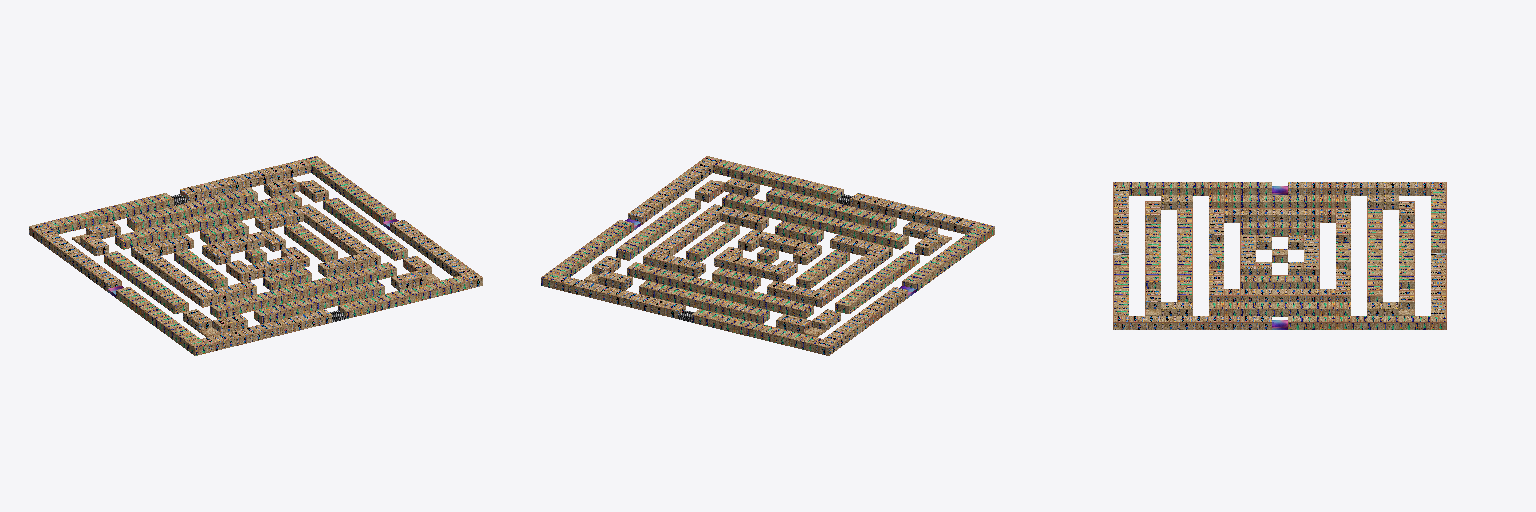
The picture shows the model from 3 angles: view 1: azimuth 30°, elevation 25°; view 2: azimuth 150°, elevation 25°; view 3: azimuth 270°, elevation 25°; orthographic projection.
Visible parts, largest first — view 1: Box118, Box132, Box154, Box135, Box134, Box160, Box158, Box159, Box156, Box157, Box143, Box155 (+14 smaller); view 2: Box118, Box132, Box160, Box134, Box135, Box154, Box159, Box158, Box157, Box156, Box155, Box143 (+14 smaller); view 3: Box143, Box155, Box131, Box156, Box157, Box130, Box115, Box118, Box132, Box114, Box106, Box107 (+6 smaller).
Boxes of the visible parts, x1,y1,x2,y2 form: Box118: [115, 193, 301, 249]; Box132: [210, 262, 396, 318]; Box154: [338, 275, 469, 318]; Box135: [254, 281, 384, 323]; Box134: [127, 188, 257, 230]; Box160: [180, 159, 310, 202]; Box158: [202, 309, 331, 352]; Box159: [43, 193, 173, 234]; Box156: [116, 287, 208, 355]; Box157: [29, 223, 121, 291]; Box143: [390, 220, 482, 288]; Box155: [304, 156, 395, 224]; Box118: [627, 262, 813, 318]; Box132: [722, 193, 908, 249]; Box160: [554, 275, 685, 318]; Box134: [639, 281, 769, 323]; Box135: [766, 188, 896, 230]; Box154: [713, 159, 843, 202]; Box159: [692, 309, 821, 352]; Box158: [850, 193, 980, 234]; Box157: [815, 287, 907, 355]; Box156: [902, 223, 994, 291]; Box155: [541, 220, 633, 288]; Box143: [628, 156, 719, 224]; Box143: [1113, 316, 1271, 329]; Box155: [1288, 316, 1446, 329]; Box131: [1209, 302, 1350, 316]; Box156: [1113, 182, 1271, 195]; Box157: [1288, 182, 1446, 195]; Box130: [1209, 195, 1350, 207]; Box115: [1224, 208, 1335, 222]; Box118: [1367, 208, 1382, 301]; Box132: [1177, 208, 1192, 301]; Box114: [1224, 289, 1335, 301]; Box106: [1240, 275, 1319, 288]; Box107: [1240, 222, 1319, 236].
Bounding box in the file's own units: 94.5 × 2.5 × 94.5.
Materials: 6 (5 with a texture image).